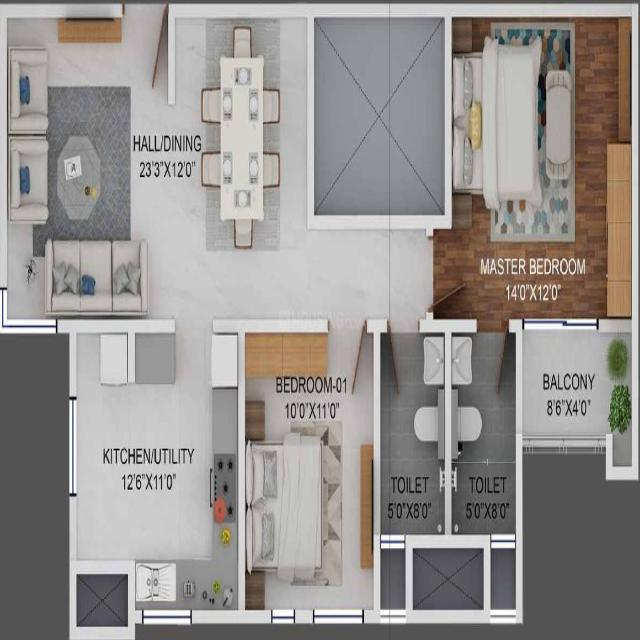Bedroom: (241, 330, 378, 621)
Bedroom with Toilet: (447, 9, 631, 318)
Dining: (197, 14, 281, 249)
Enterance-Foyer: (119, 2, 170, 104)
Kitchen: (71, 330, 240, 623)
Living: (3, 6, 173, 325)
Toilet: (448, 328, 517, 534), (380, 330, 448, 536)
